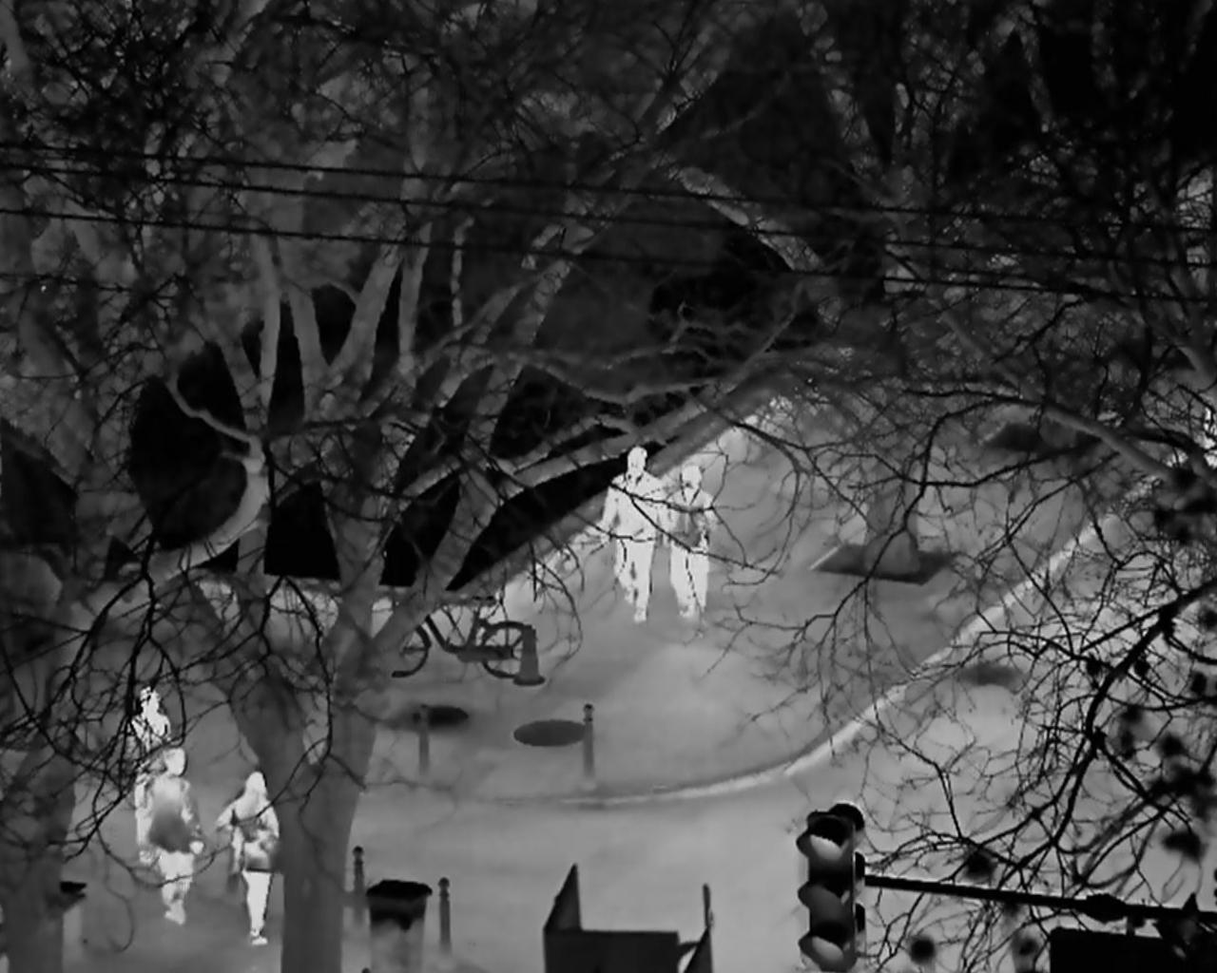person: (598, 446, 666, 625), (212, 771, 280, 946), (145, 746, 205, 925), (666, 465, 719, 619), (125, 686, 170, 860)
